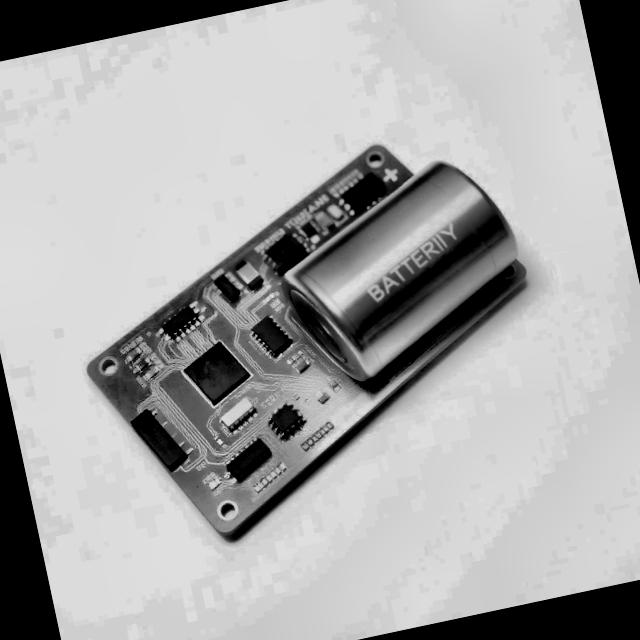Battery: (258, 146, 543, 397)
PCB: (41, 105, 578, 564)
